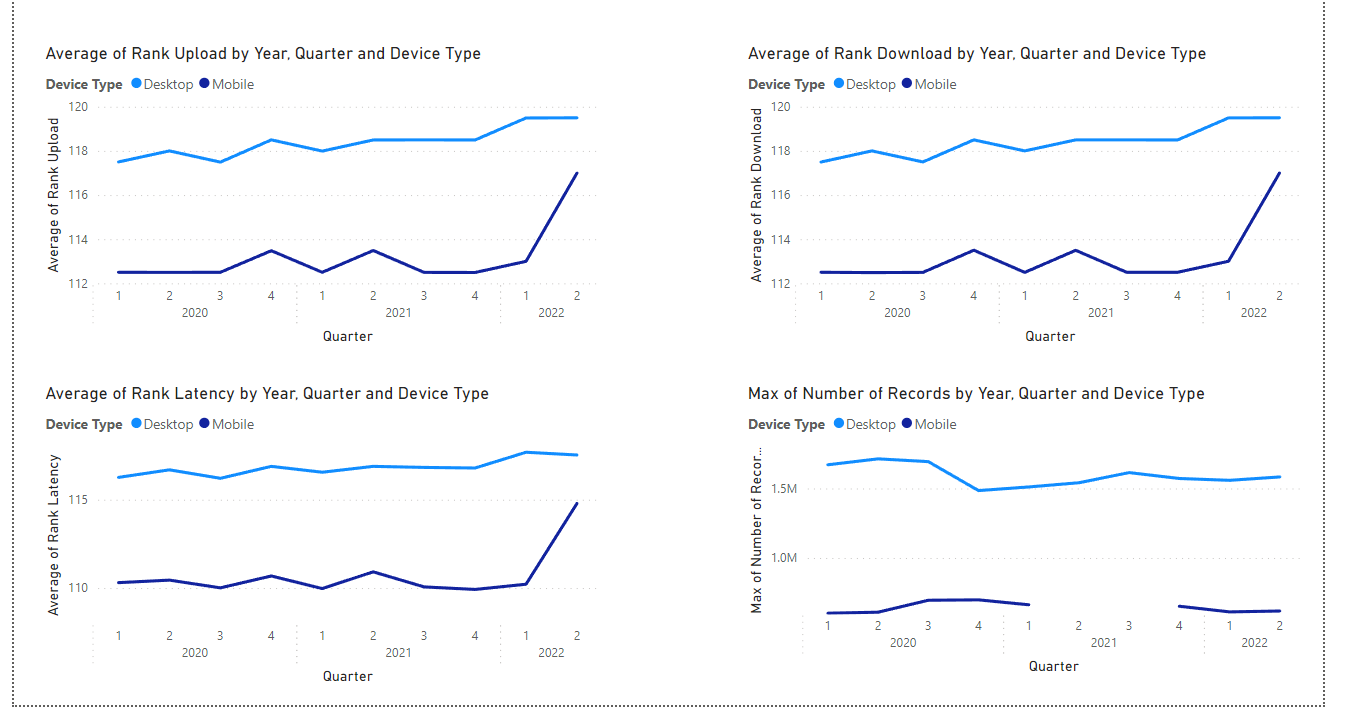

What the dashboard file says about the page in this screenshot:
{"tool":"powerbi","page":{"name":"Page 2","canvas":[1280,720],"ordinal":2},"visuals":[{"type":"lineChart","fields":{"Category":["Speed Test Data by OOKLA.Year","Speed Test Data by OOKLA.Quarter"],"Y":["Avg(Speed Test Data by OOKLA.Rank Upload)"],"Series":["Speed Test Data by OOKLA.Device Type"]},"box":[25.7,72,550,300],"z":0},{"type":"lineChart","fields":{"Category":["Speed Test Data by OOKLA.Year","Speed Test Data by OOKLA.Quarter"],"Y":["Avg(Speed Test Data by OOKLA.Rank Download)"],"Series":["Speed Test Data by OOKLA.Device Type"]},"box":[712.1,72,550,300],"z":1000},{"type":"lineChart","fields":{"Category":["Speed Test Data by OOKLA.Year","Speed Test Data by OOKLA.Quarter"],"Y":["Avg(Speed Test Data by OOKLA.Rank Latency)"],"Series":["Speed Test Data by OOKLA.Device Type"]},"box":[25.7,404.4,550,300],"z":2000},{"type":"lineChart","fields":{"Category":["Speed Test Data by OOKLA.Year","Speed Test Data by OOKLA.Quarter"],"Series":["Speed Test Data by OOKLA.Device Type"],"Y":["Max(Speed Test Data by OOKLA.Number of Records)"]},"box":[712.1,404.4,550,290.5],"z":3000}]}

Visuals, with their boxes on the page's 1280x720 design canvas (x1, y1, x2, y2). These are canvas units, not pixel positions in the 1346x713 screenshot, which may show the page scaled, cropped or inside an application window:
lineChart - Speed Test Data by OOKLA.Year x Speed Test Data by OOKLA.Quarter: 26:72:576:372
lineChart - Speed Test Data by OOKLA.Year x Speed Test Data by OOKLA.Quarter: 712:72:1262:372
lineChart - Speed Test Data by OOKLA.Year x Speed Test Data by OOKLA.Quarter: 26:404:576:704
lineChart - Speed Test Data by OOKLA.Year x Speed Test Data by OOKLA.Quarter: 712:404:1262:695
